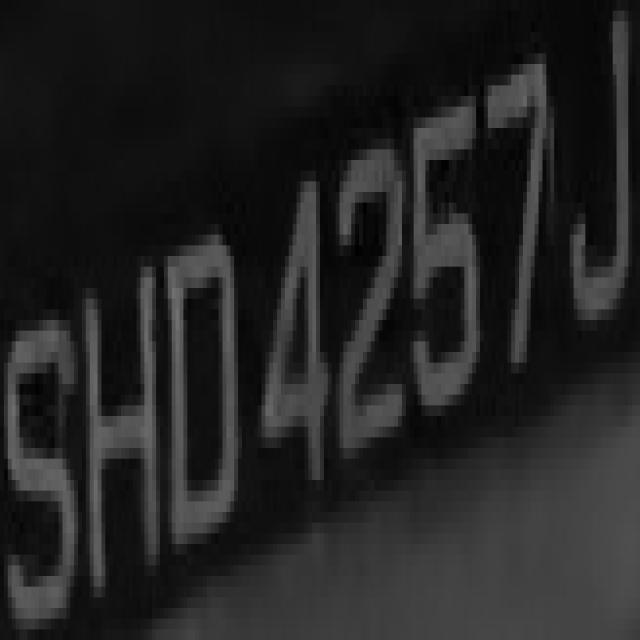2: (316, 118, 414, 502)
4: (238, 160, 332, 501)
5: (406, 74, 492, 458)
7: (464, 32, 562, 416)
D: (152, 224, 250, 565)
H: (74, 235, 168, 608)
J: (558, 11, 640, 373)
S: (16, 288, 78, 629)
